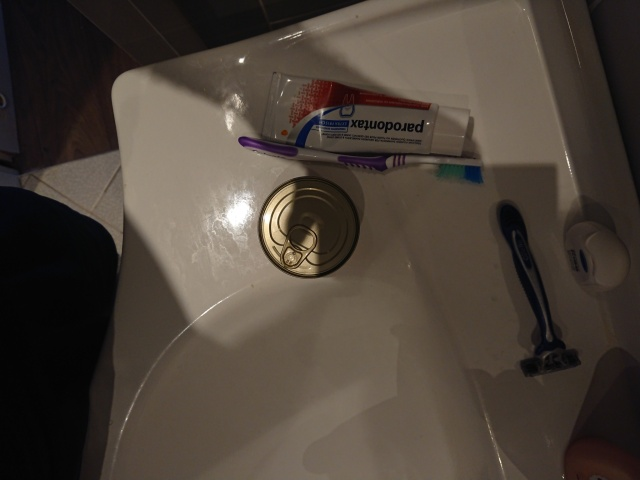Gavrilovic Pork Liver Pate 100g: (256, 174, 362, 281)
